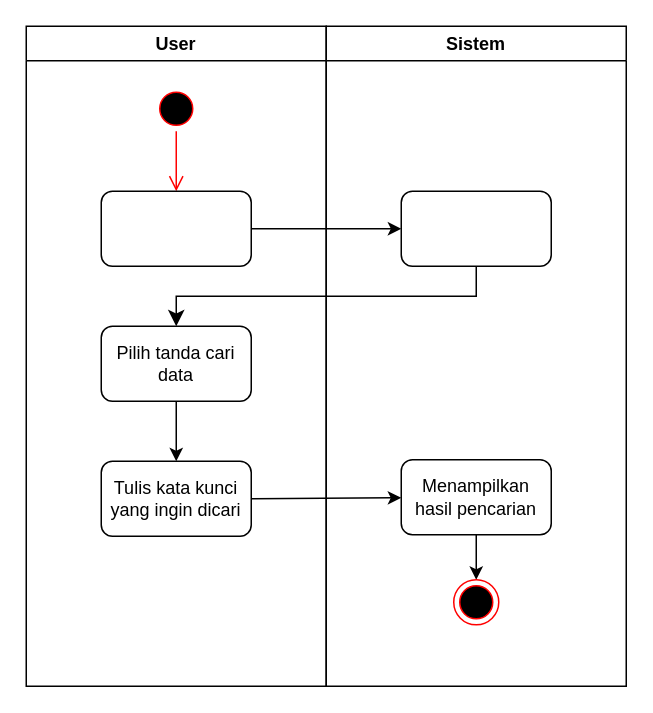
The diagram is 653 pixels wide and 713 high, and some of its shapes have lost their labels. The shapes that lost their labels are listed below. From the top down, each one's centre as x and y in pixels, then its label:
At pixel 175 228: "Membuka halaman unit".
At pixel 475 228: "Menampilkan halaman unit".
